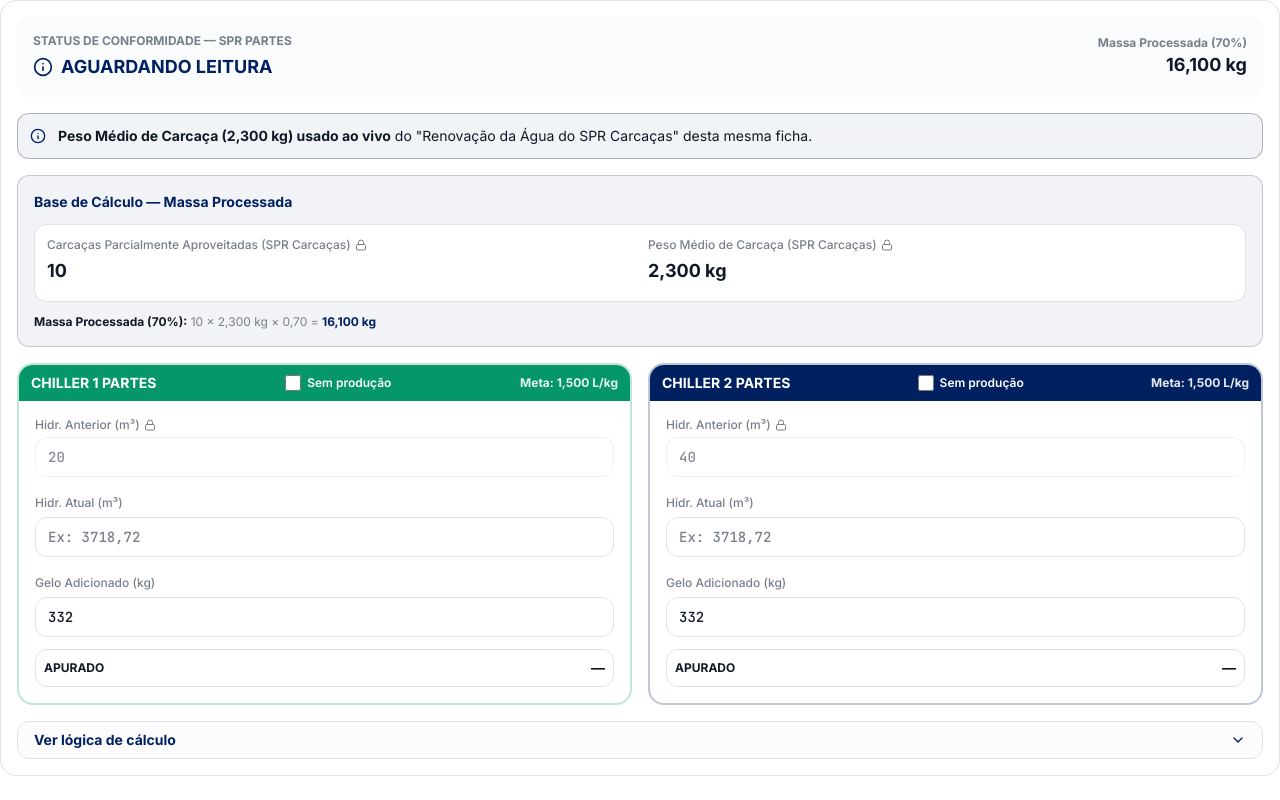
Test case: Sem produção por tanque › Partes: desmarcar traz os campos de volta e remove a marca
This screenshot has width=1280, height=800.
Click the checkbox with test id "sem-producao-chiller2" at [926, 383], box [918,375,934,391]
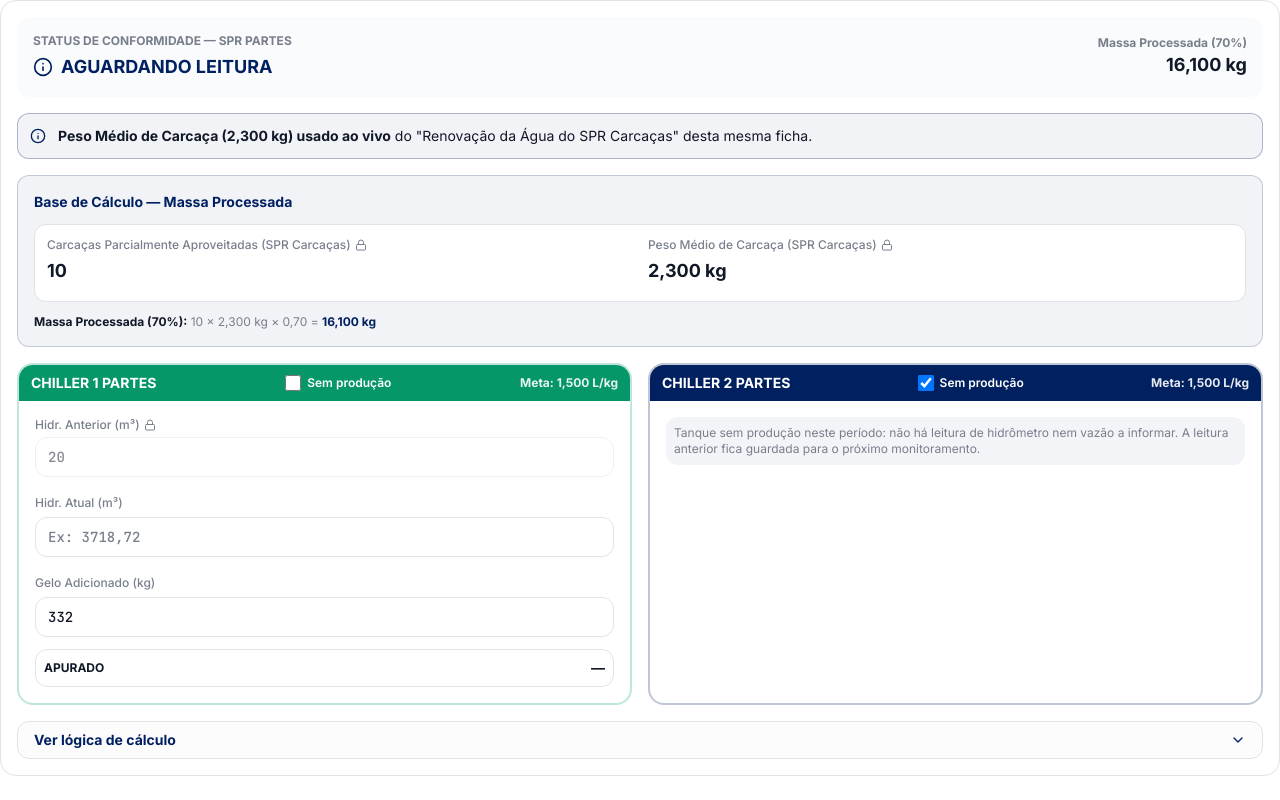
Click the checkbox with test id "sem-producao-chiller2" at [926, 383], box [918,375,934,391]
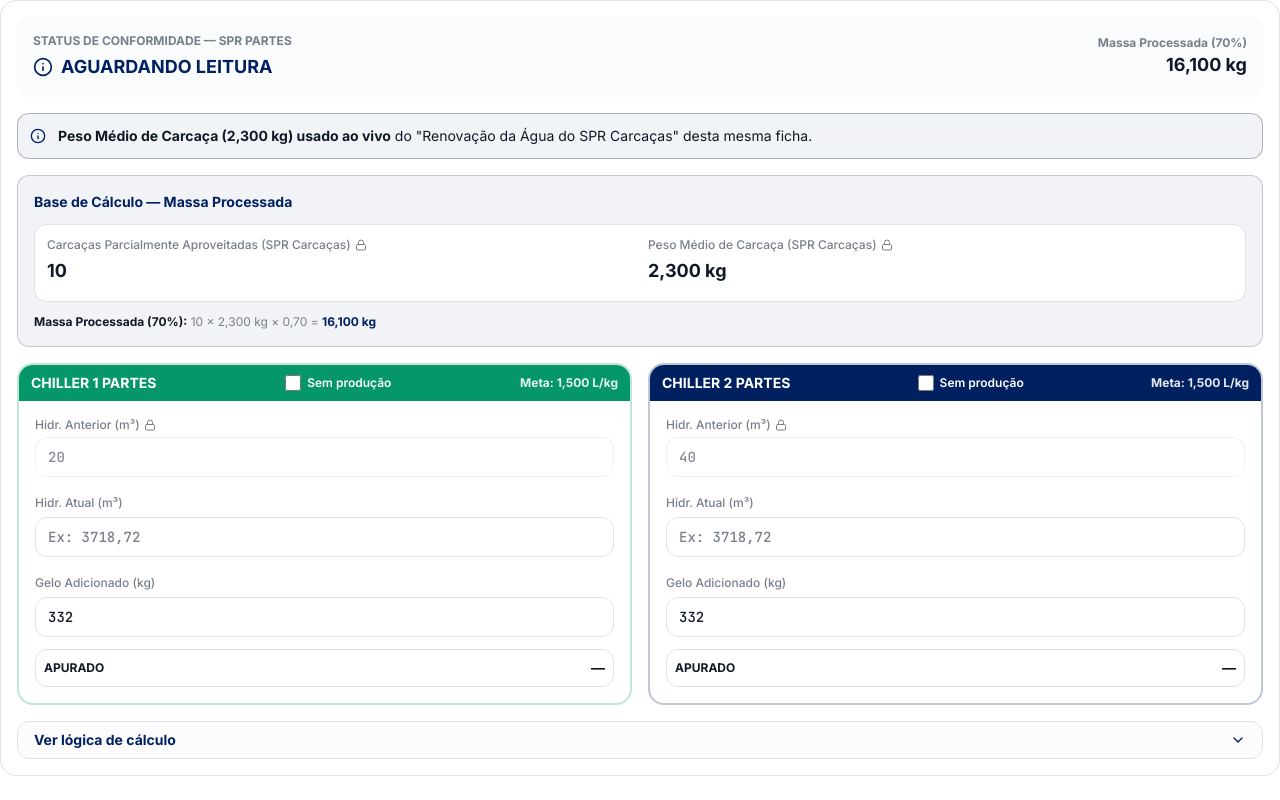
Check: the text "Hidr. Atual (m³)" is shown 2 times, box [35,495,123,510]; [666,495,754,510]
